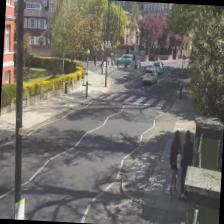person: (178, 130, 194, 201), (167, 129, 183, 194)
